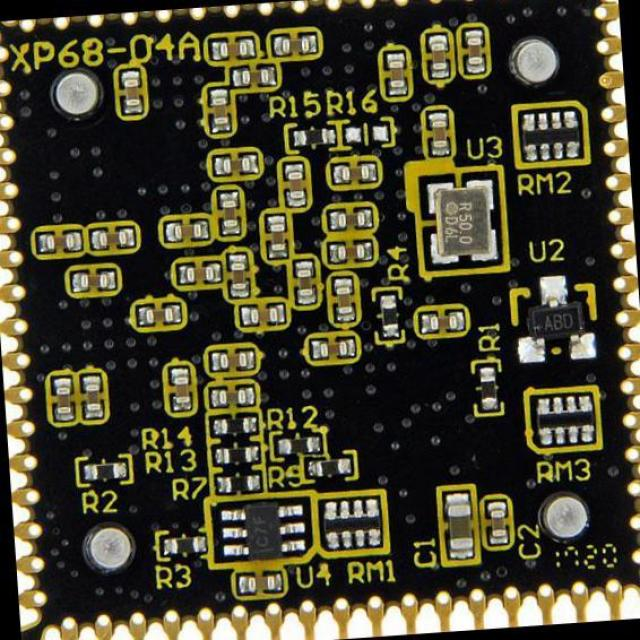Capacitor Jumper: (436, 486, 480, 564), (482, 496, 511, 550)
Connector: (53, 575, 628, 639), (0, 38, 52, 614), (587, 0, 639, 572), (10, 0, 588, 36)
IC: (412, 163, 508, 275), (506, 270, 598, 368), (207, 492, 318, 566)
Pads: (341, 116, 397, 150)
Resistor: (373, 288, 403, 343), (77, 455, 132, 485), (283, 121, 336, 152), (157, 528, 209, 559), (208, 440, 262, 468), (209, 410, 261, 439), (302, 454, 354, 483), (271, 431, 326, 458), (210, 471, 265, 494)
Resistor Network: (524, 386, 600, 456), (511, 102, 587, 168), (316, 491, 388, 554)
Unknown Unlabeled: (50, 70, 102, 120), (84, 526, 138, 574), (509, 38, 560, 88), (418, 26, 453, 88), (201, 379, 258, 417), (199, 80, 235, 137), (415, 302, 472, 338), (64, 262, 120, 298), (543, 494, 588, 538), (234, 295, 287, 331), (206, 342, 259, 377), (269, 27, 322, 62), (84, 222, 140, 255), (164, 358, 197, 414), (458, 23, 490, 80), (32, 224, 84, 259), (207, 148, 260, 182), (131, 298, 184, 332), (303, 331, 361, 362), (324, 235, 376, 269), (157, 214, 212, 246), (114, 63, 146, 118), (44, 371, 77, 424), (223, 248, 253, 306), (379, 45, 410, 101), (473, 358, 503, 415), (326, 272, 357, 326), (204, 32, 256, 64), (421, 106, 454, 156), (232, 568, 287, 598), (78, 369, 107, 425), (174, 256, 226, 287), (291, 256, 322, 308), (328, 157, 380, 187), (225, 63, 278, 92), (279, 159, 310, 208), (262, 209, 291, 261), (216, 188, 245, 238), (325, 205, 373, 233)
